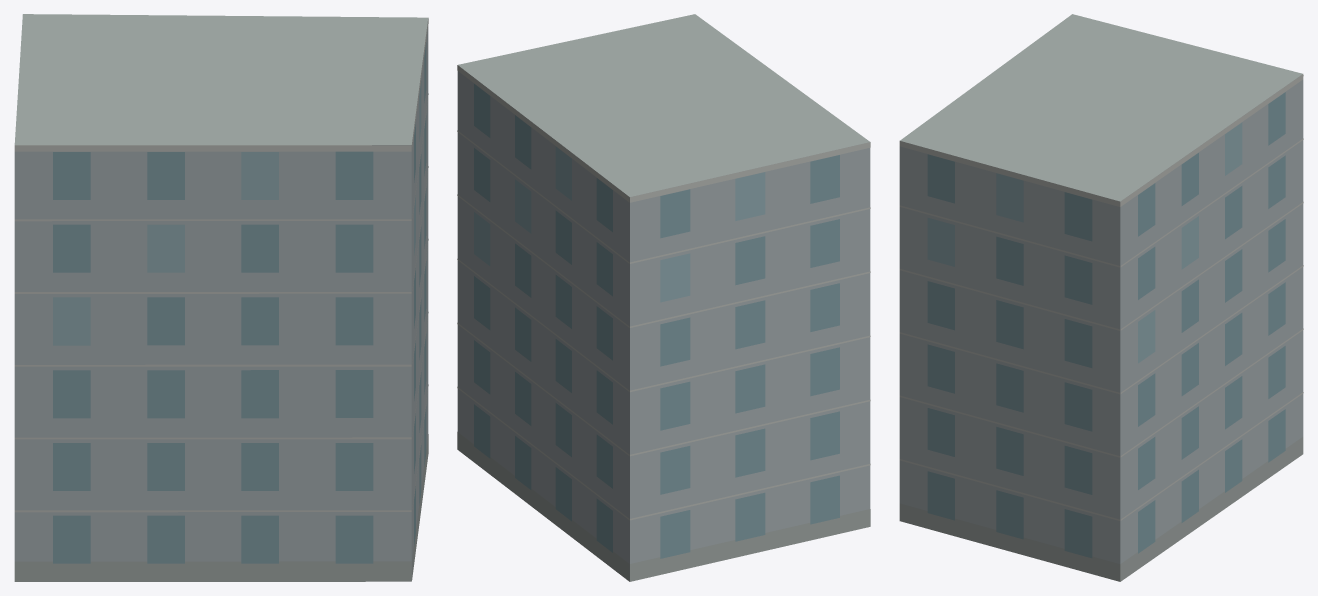
File: survey-upis-32790426.glb
3 views of the same model, side by side, from view 1: azimuth 30°, elevation 25°; view 2: azimuth 150°, elevation 25°; view 3: azimuth 270°, elevation 25° (orthographic). The views are drawn at different scales.
Visible parts, largest first — view 1: survey-upis-32790426.tmp; view 2: survey-upis-32790426.tmp; view 3: survey-upis-32790426.tmp.
Part boxes in pixels (x1,y1,x2,y2): survey-upis-32790426.tmp: (14, 14, 428, 581); survey-upis-32790426.tmp: (457, 14, 870, 581); survey-upis-32790426.tmp: (899, 14, 1303, 581).
Bounding box in the file's own units: 17.47 × 16.5 × 15.88.
